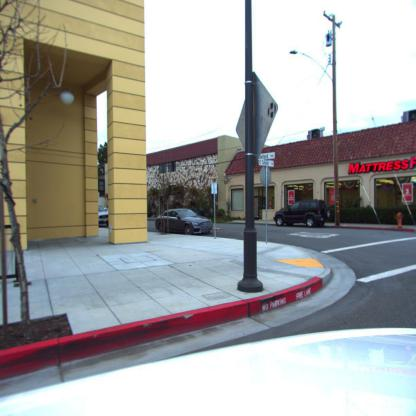car: (272, 199, 329, 227), (155, 208, 213, 235)
fire hydrant: (395, 211, 404, 228)
stop sign: (236, 74, 278, 154)
